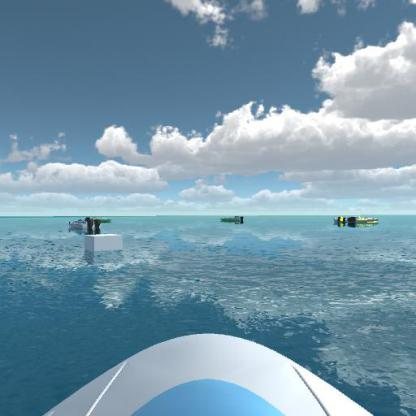usv0: (219, 212, 247, 227), (91, 210, 115, 226)
usv1: (66, 214, 103, 234)
usv2: (350, 209, 382, 230), (329, 211, 348, 227)
